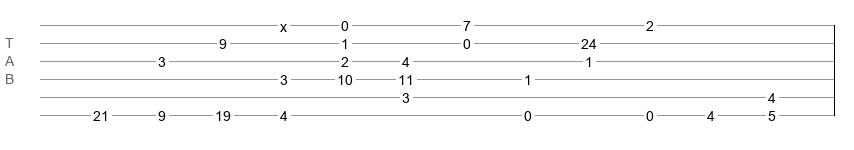0: (341, 18, 349, 28), (463, 36, 471, 46), (524, 108, 532, 118), (646, 108, 654, 118)
1: (341, 36, 349, 46), (524, 72, 532, 82), (585, 54, 593, 64)
10: (337, 72, 353, 82)
11: (398, 72, 414, 82)
19: (215, 108, 231, 118)
2: (341, 54, 349, 64), (646, 18, 654, 28)
21: (93, 108, 109, 118)
24: (581, 36, 597, 46)
3: (158, 54, 166, 64), (280, 72, 288, 82), (402, 90, 410, 100)
4: (280, 108, 288, 118), (402, 54, 410, 64), (707, 108, 715, 118), (768, 90, 776, 100)
5: (768, 108, 776, 118)
7: (463, 18, 471, 28)
9: (158, 108, 166, 118), (219, 36, 227, 46)
x: (280, 19, 287, 27)
